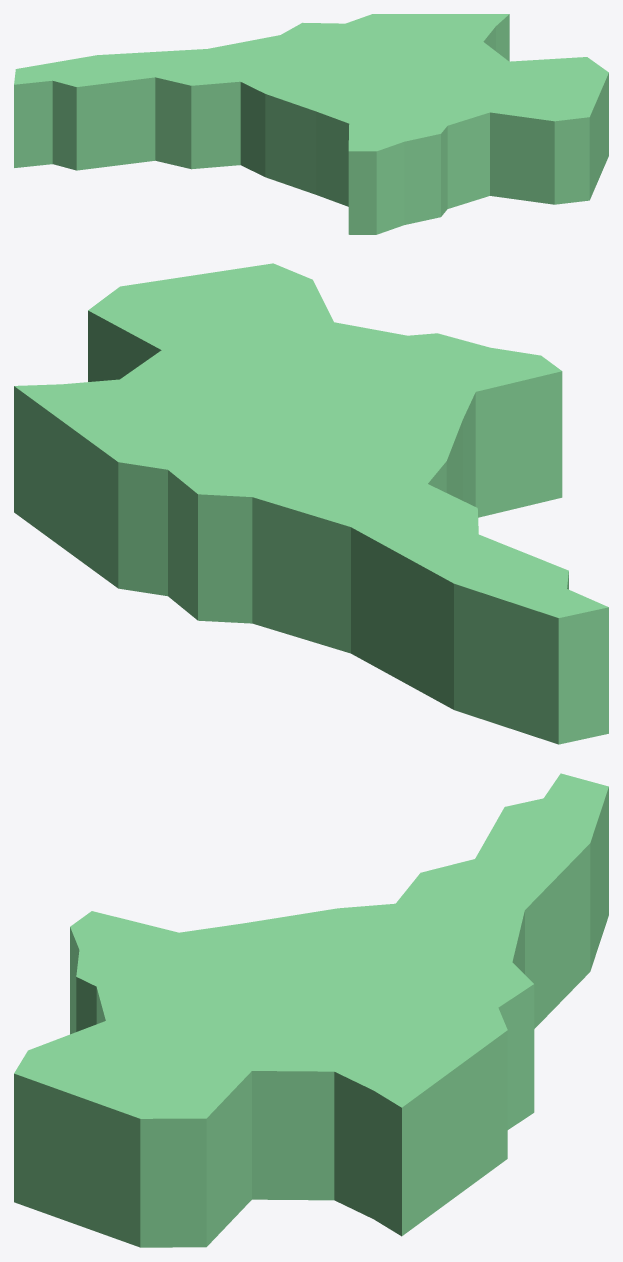
File: Georgia_Kutaisi.fbx
3 views of the same model, one above another, from view 1: azimuth 30°, elevation 25°; view 2: azimuth 150°, elevation 25°; view 3: azimuth 270°, elevation 25° (orthographic). The views are drawn at different scales.
Parts seen in each view (by area): view 1: Kutaisi; view 2: Kutaisi; view 3: Kutaisi.
Part boxes in pixels (box(x1,y1,x2,y2)): Kutaisi: box(14, 14, 608, 234); Kutaisi: box(14, 263, 608, 744); Kutaisi: box(14, 773, 608, 1247).
Size of the model in its own units: 7.54 by 1.31 by 5.49.
